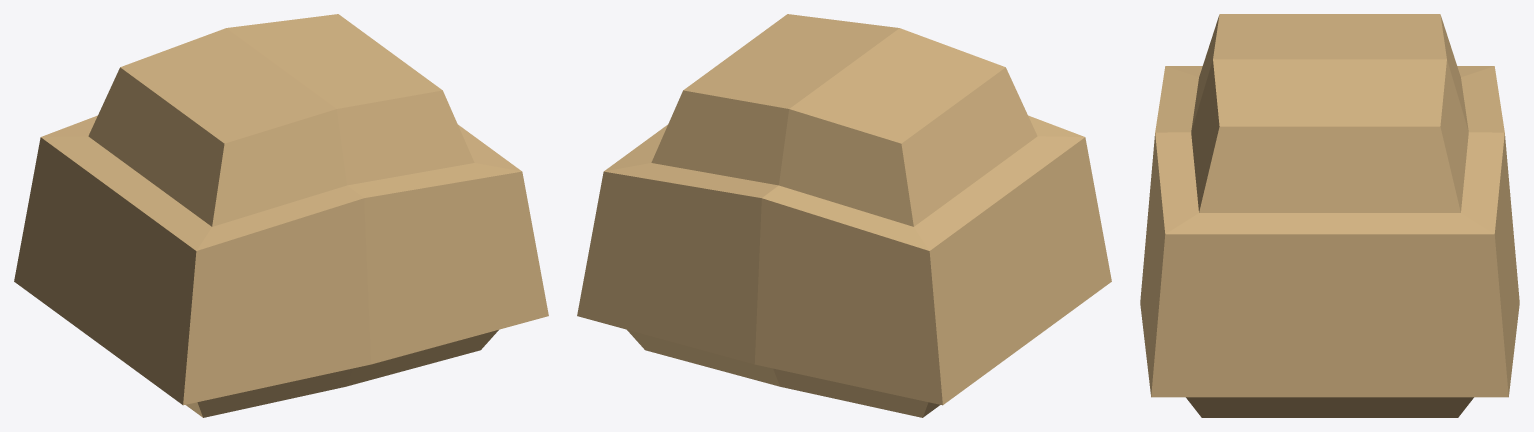
Rendered from Mega_Asset_s_Pack_Cube_049.FBX.
The picture shows the model from 3 angles, left to right: view 1: azimuth 30°, elevation 25°; view 2: azimuth 150°, elevation 25°; view 3: azimuth 270°, elevation 25°; orthographic projection. The views are drawn at different scales.
Parts seen in each view (by area): view 1: Mega_Asset_s_Pack_Cube_049; view 2: Mega_Asset_s_Pack_Cube_049; view 3: Mega_Asset_s_Pack_Cube_049.
Boxes of the visible parts, <box> form: Mega_Asset_s_Pack_Cube_049: <box>14,14,548,417</box>; Mega_Asset_s_Pack_Cube_049: <box>577,14,1111,417</box>; Mega_Asset_s_Pack_Cube_049: <box>1140,14,1519,417</box>.
Size of what is drawn, in the model's own units: 509 by 433 by 361.
